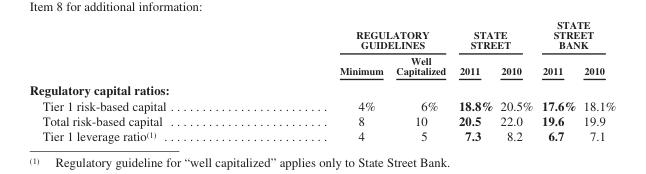table: (28, 28, 615, 143)
table column: (28, 28, 252, 143), (252, 28, 389, 143), (389, 28, 451, 143), (451, 28, 496, 143), (536, 28, 579, 143), (496, 28, 536, 143), (579, 28, 615, 143)
table column header: (28, 28, 615, 79)
table projected row header: (28, 79, 615, 97)
table row: (28, 52, 615, 79), (28, 28, 615, 52), (28, 79, 615, 97), (28, 112, 615, 128), (28, 97, 615, 112), (28, 128, 615, 143)
table spanning cell: (252, 28, 451, 52), (451, 28, 536, 52), (536, 28, 615, 52)
